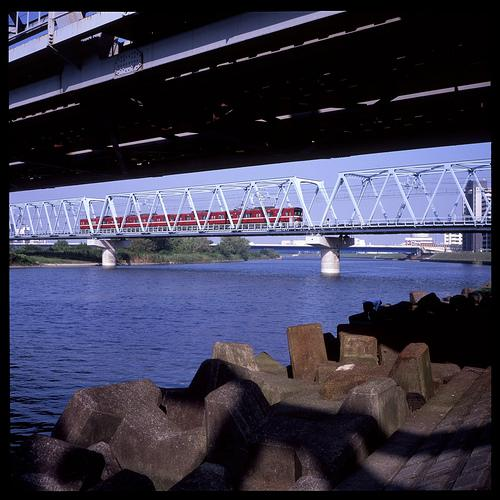Train: (80, 208, 304, 232)
